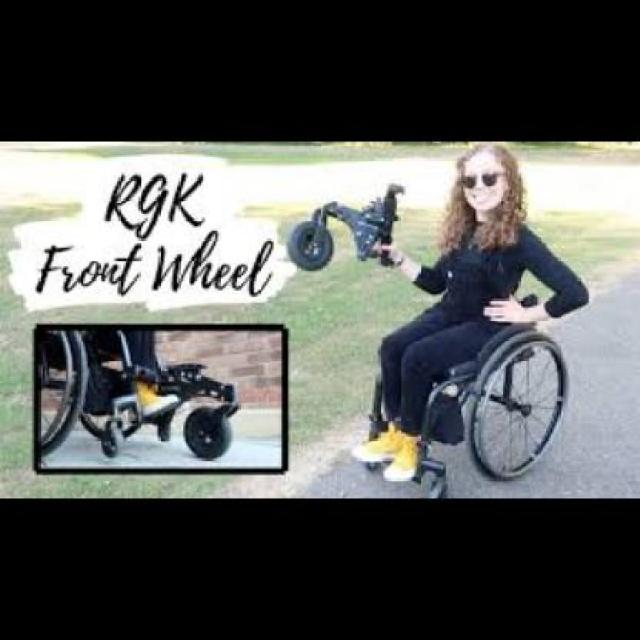wheelchairs: (358, 268, 572, 496)
